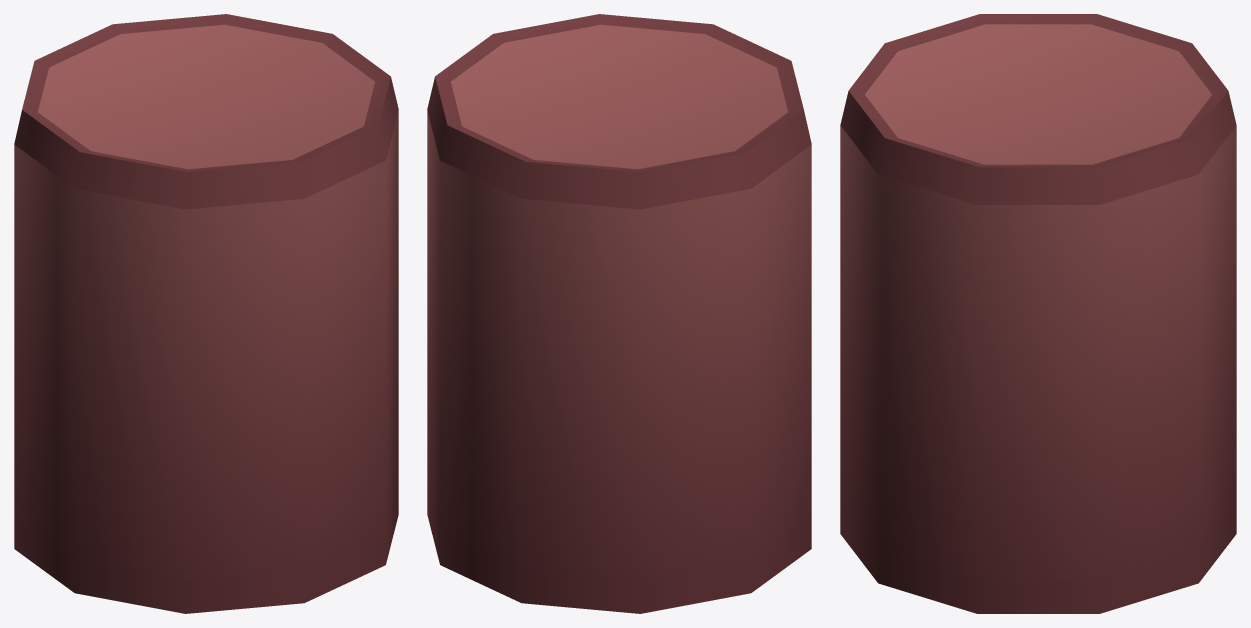
File: can_red.fbx
3 views of the same model, side by side, from view 1: azimuth 30°, elevation 25°; view 2: azimuth 150°, elevation 25°; view 3: azimuth 270°, elevation 25° (orthographic).
Parts seen in each view (by area): view 1: can_red; view 2: can_red; view 3: can_red.
Part boxes in pixels (x1,y1,x2,y2): can_red: [14, 14, 398, 613]; can_red: [427, 14, 811, 613]; can_red: [840, 14, 1236, 613].
Bounding box in the file's own units: 104 × 134 × 109.
